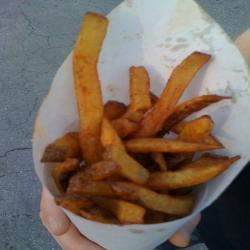fries: (36, 76, 223, 231)
